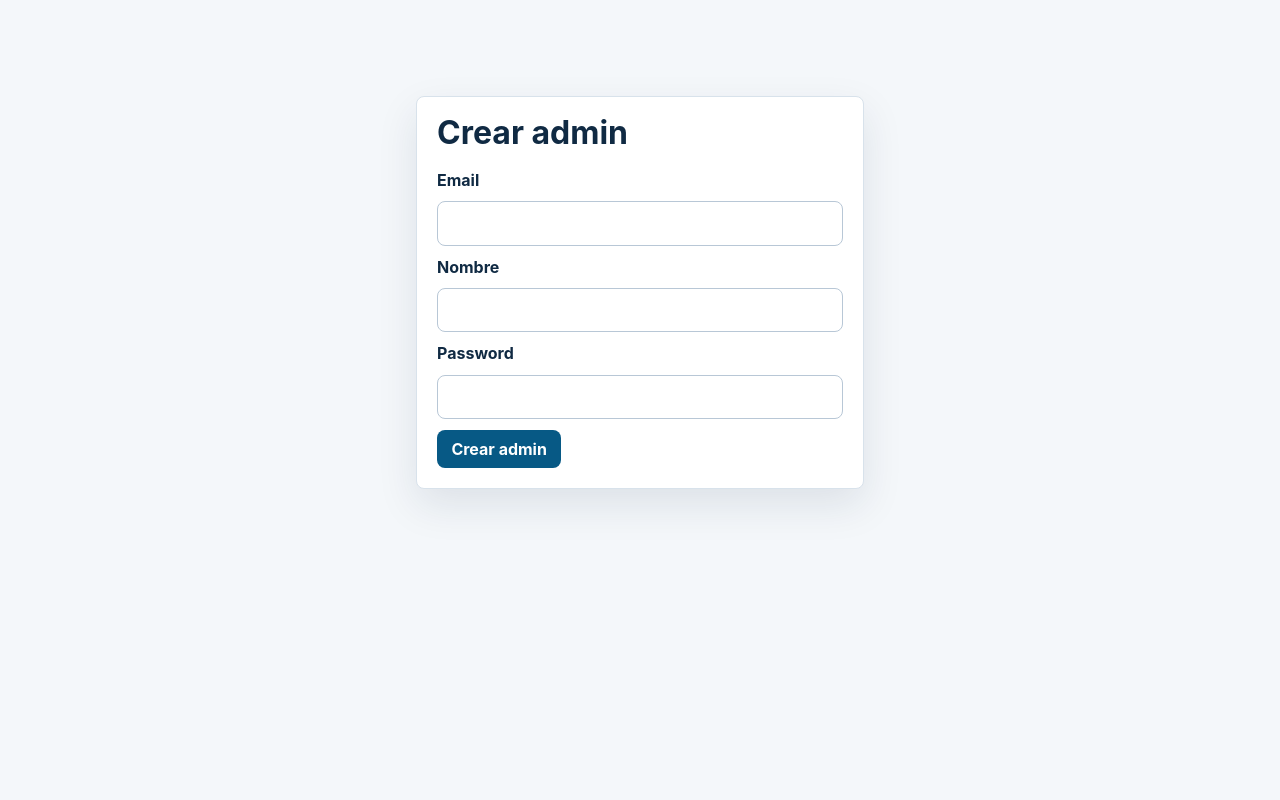
Test: application shell › bootstraps the first admin through the JSON contract
Expected: the heading "Crear admin" is shown, [437, 113, 628, 152]
Type "admin@example.local" into the field labelled "Email" at [640, 223], box [437, 201, 843, 246]
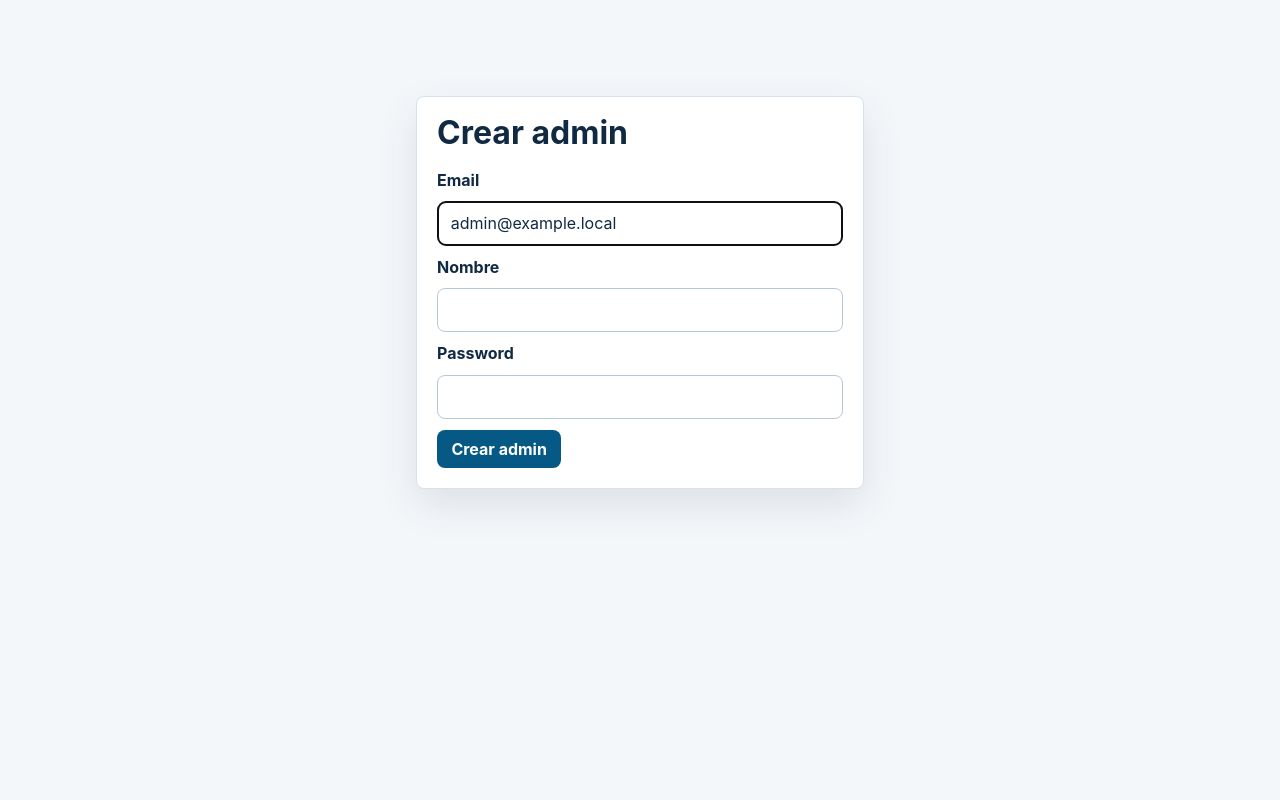
Type "Admin User" into the field labelled "Nombre" at [640, 310], box [437, 288, 843, 332]
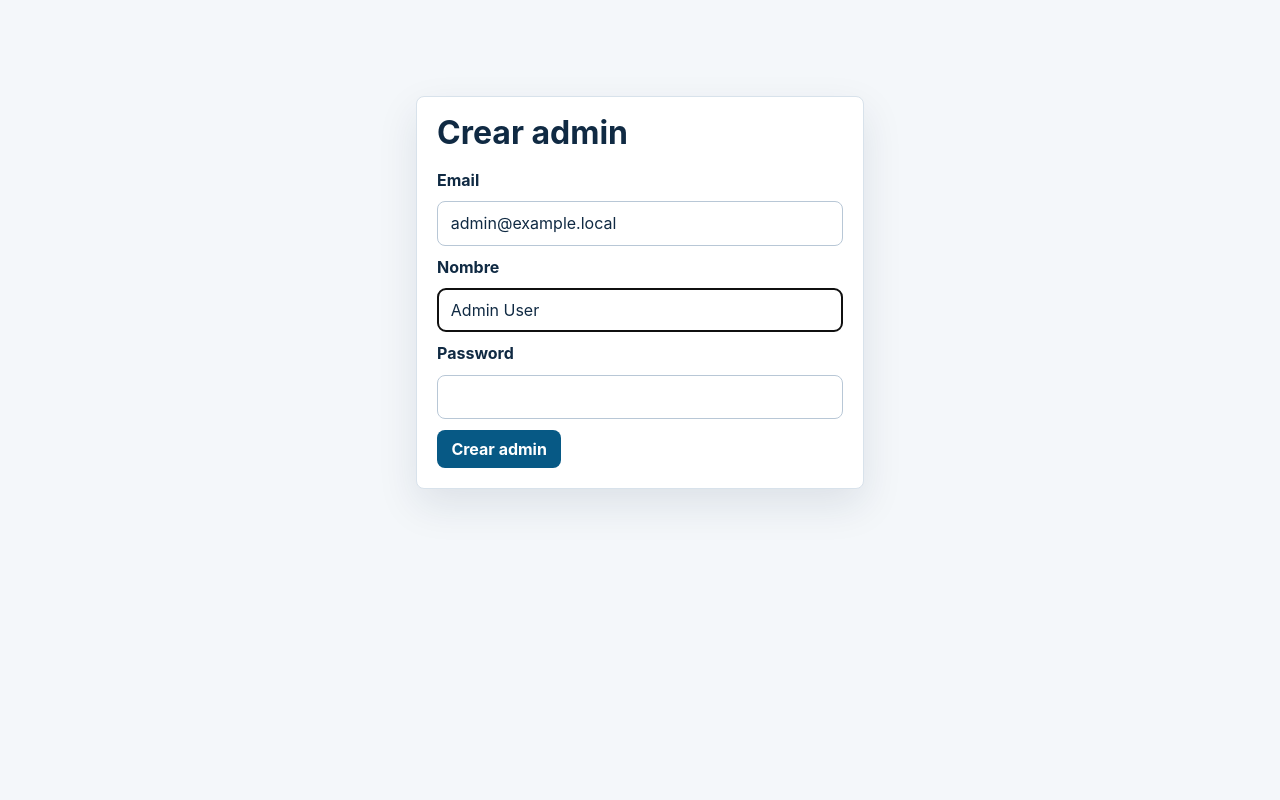
Type "admin pass" into the password field labelled "Password" at [640, 397], box [437, 375, 843, 419]
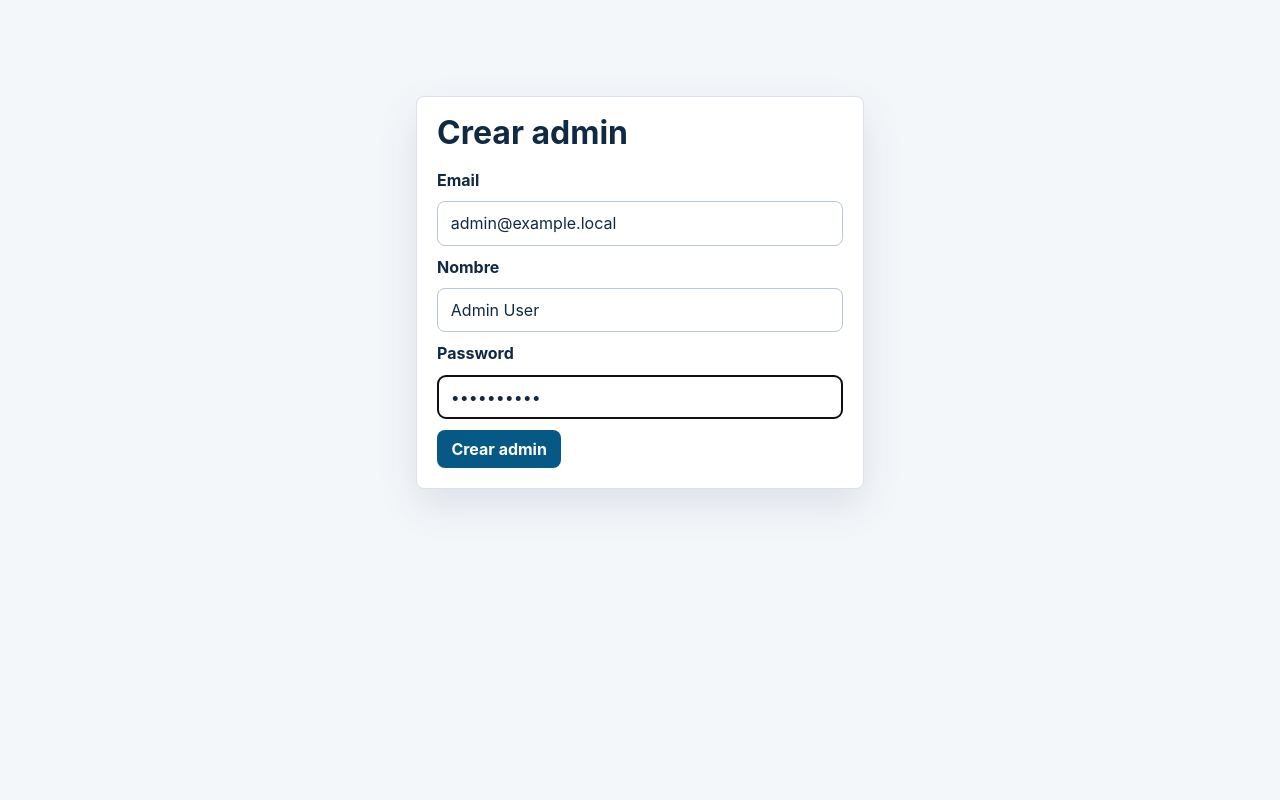
Click the button "Crear admin" at [499, 449], box [437, 430, 561, 468]
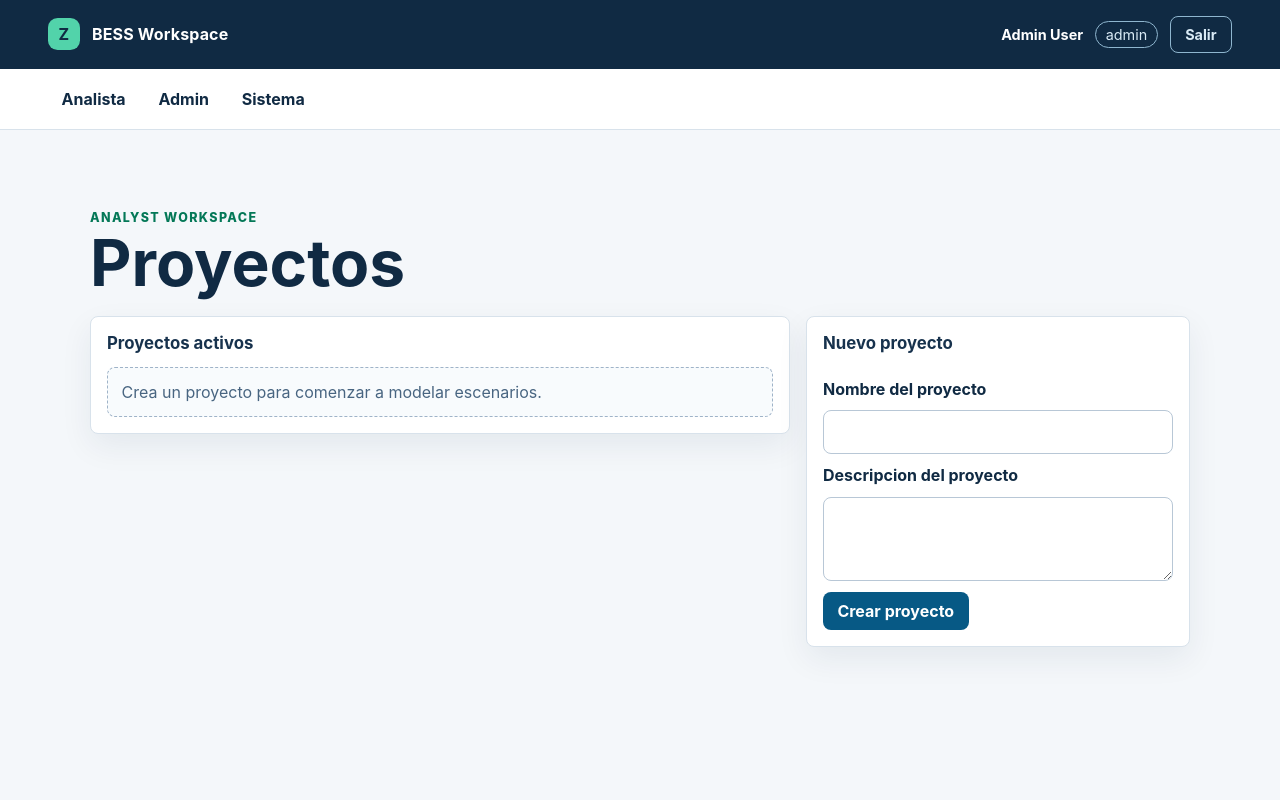
Expected: the heading "Proyectos" is shown, [90, 224, 405, 301]
Expected: the text "Admin User" is shown, [1001, 26, 1083, 43]
